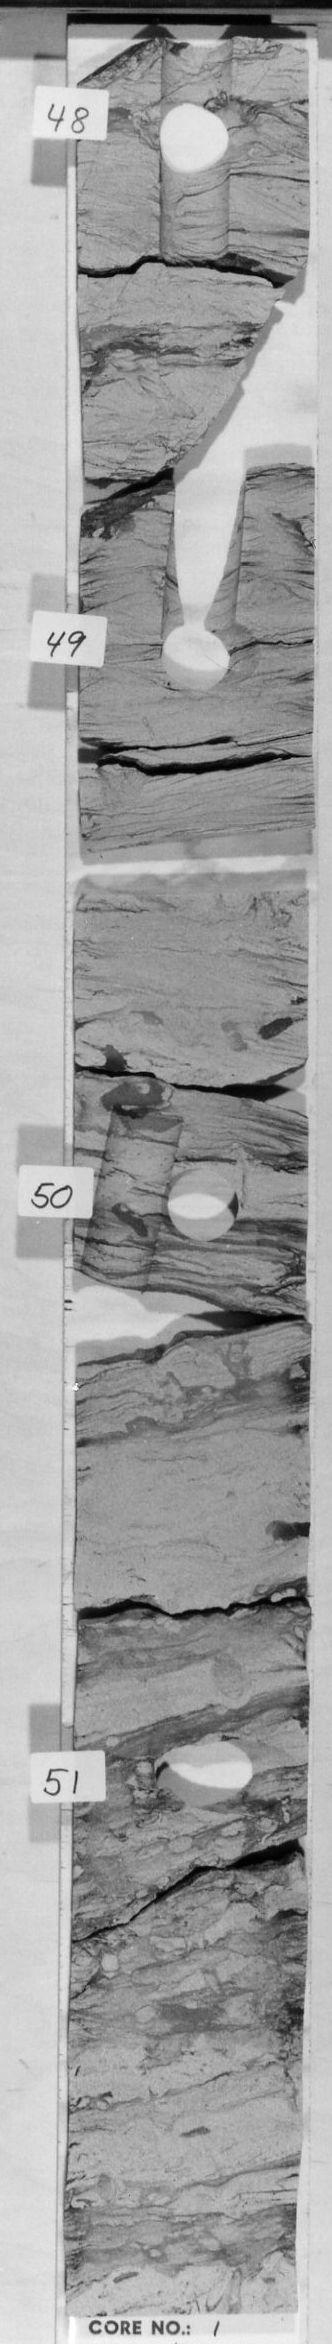hplug: (144, 1731, 266, 1816), (147, 96, 247, 176), (153, 629, 262, 694), (162, 1166, 245, 1245)
vplug: (82, 1102, 185, 1296), (156, 34, 235, 268), (156, 472, 248, 628)
